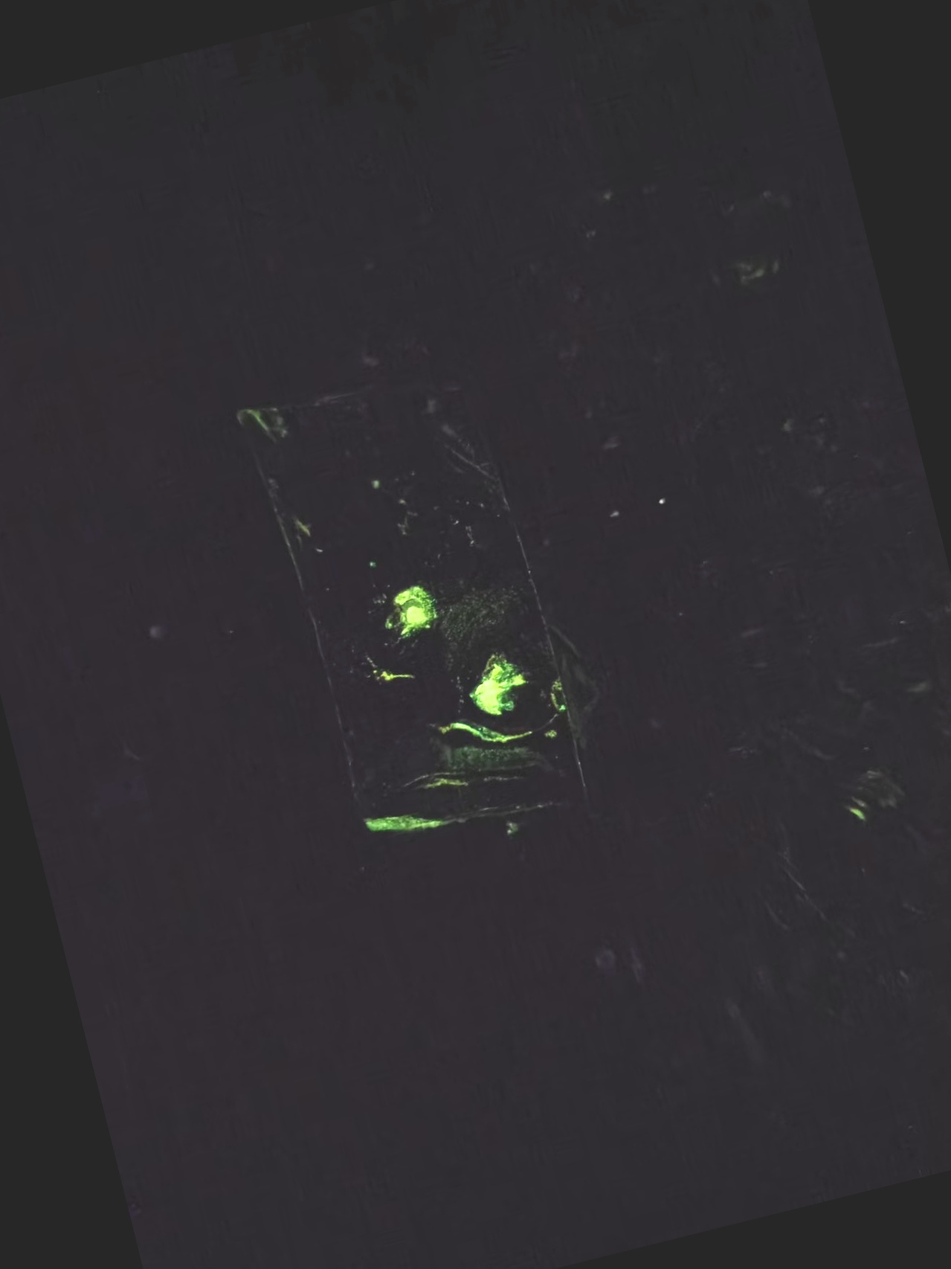Crater: (434, 624, 560, 761), (350, 549, 466, 670)
